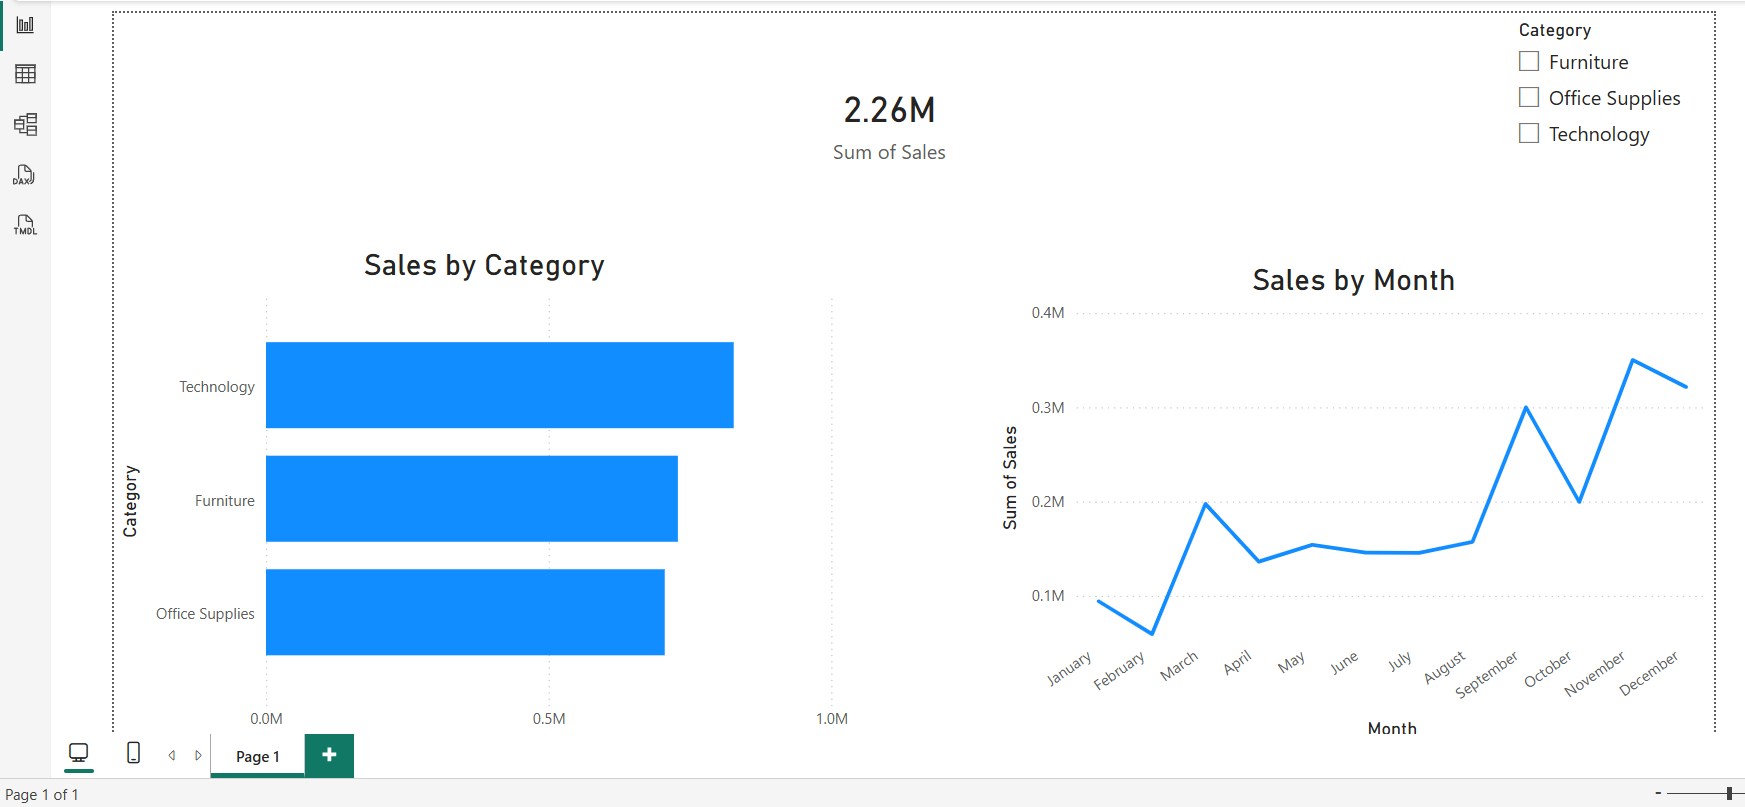

The page's visual inventory and layout, read from the dashboard file:
{"tool":"powerbi","page":{"name":"Page 1","canvas":[1280,720],"ordinal":0},"visuals":[{"type":"barChart","title":"Sales by Category","fields":{"Category":["train.Category"],"Y":["Sum(train.Sales)"]},"box":[0,186.6,592.8,410.3],"z":0},{"type":"lineChart","title":"Sales by Month","fields":{"Category":["train.Order Date.Variation.Date Hierarchy.Month"],"Y":["Sum(train.Sales)"]},"box":[703.9,199,576.3,387],"z":1},{"type":"card","fields":{"Values":["Sum(train.Sales)"]},"box":[323.8,0,592.8,171.5],"z":2},{"type":"slicer","fields":{"Values":["train.Category"]},"box":[1111.5,0,168.8,152.3],"z":3}]}

Visuals, with their boxes on the page's 1280x720 design canvas (x1, y1, x2, y2). These are canvas units, not pixel positions in the 1745x807 screenshot, which may show the page scaled, cropped or inside an application window:
"Sales by Category" barChart: detection(0, 187, 593, 597)
"Sales by Month" lineChart: detection(704, 199, 1280, 586)
card - Sum(train.Sales): detection(324, 0, 917, 172)
slicer - train.Category: detection(1112, 0, 1280, 152)
